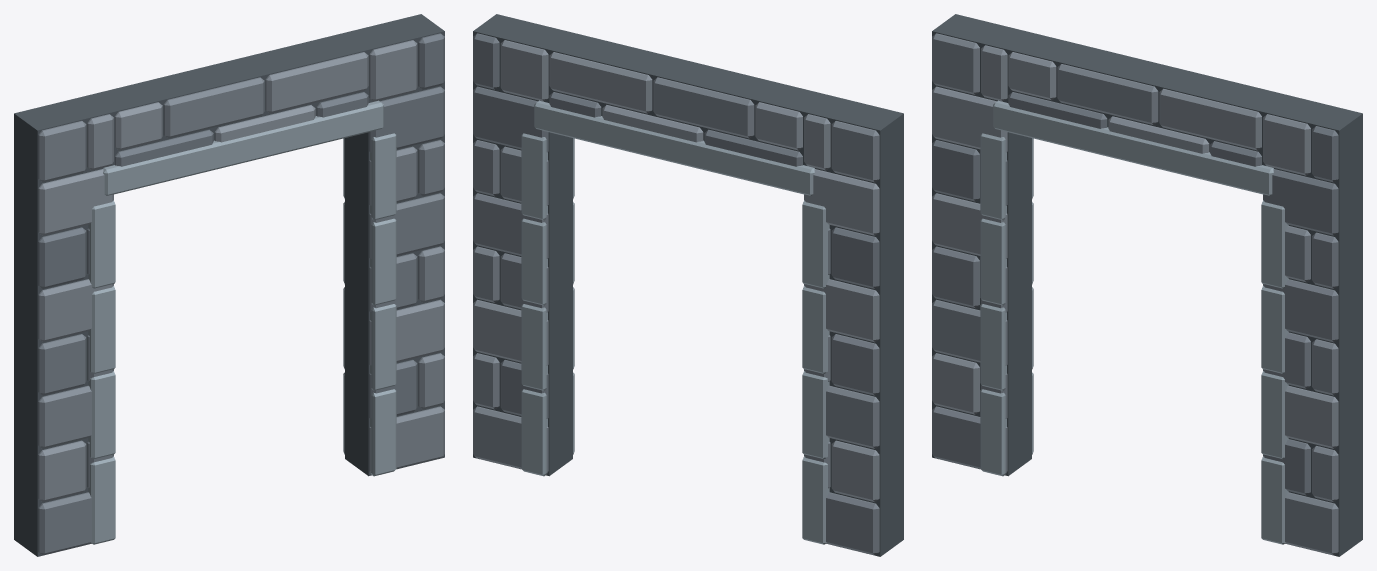
Rendered from MOD_04_Wall_Doorway.glb.
The picture shows the model from 3 angles, left to right: view 1: azimuth 30°, elevation 25°; view 2: azimuth 150°, elevation 25°; view 3: azimuth 330°, elevation 25°; orthographic projection.
Parts seen in each view (by area): view 1: MOD_04_Wall_Doorway; view 2: MOD_04_Wall_Doorway; view 3: MOD_04_Wall_Doorway.
Part boxes in pixels (x1,y1,x2,y2): MOD_04_Wall_Doorway: (14,14,444,556); MOD_04_Wall_Doorway: (473,14,903,556); MOD_04_Wall_Doorway: (932,14,1362,556).
Size of the model in its own units: 4 by 4 by 0.54.
